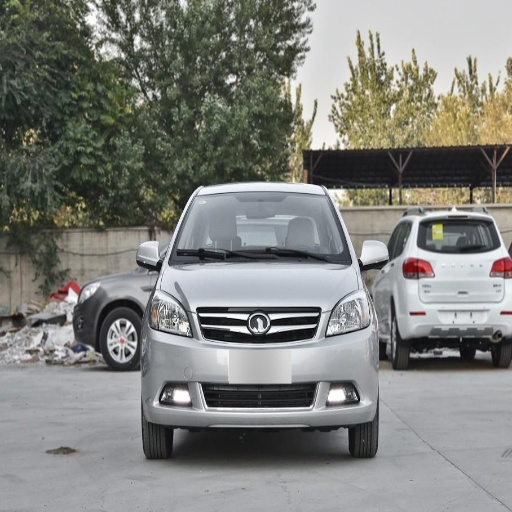front_bumper: (142, 309, 376, 425)
front_right_light: (150, 291, 195, 338)
hood: (162, 264, 358, 309)
